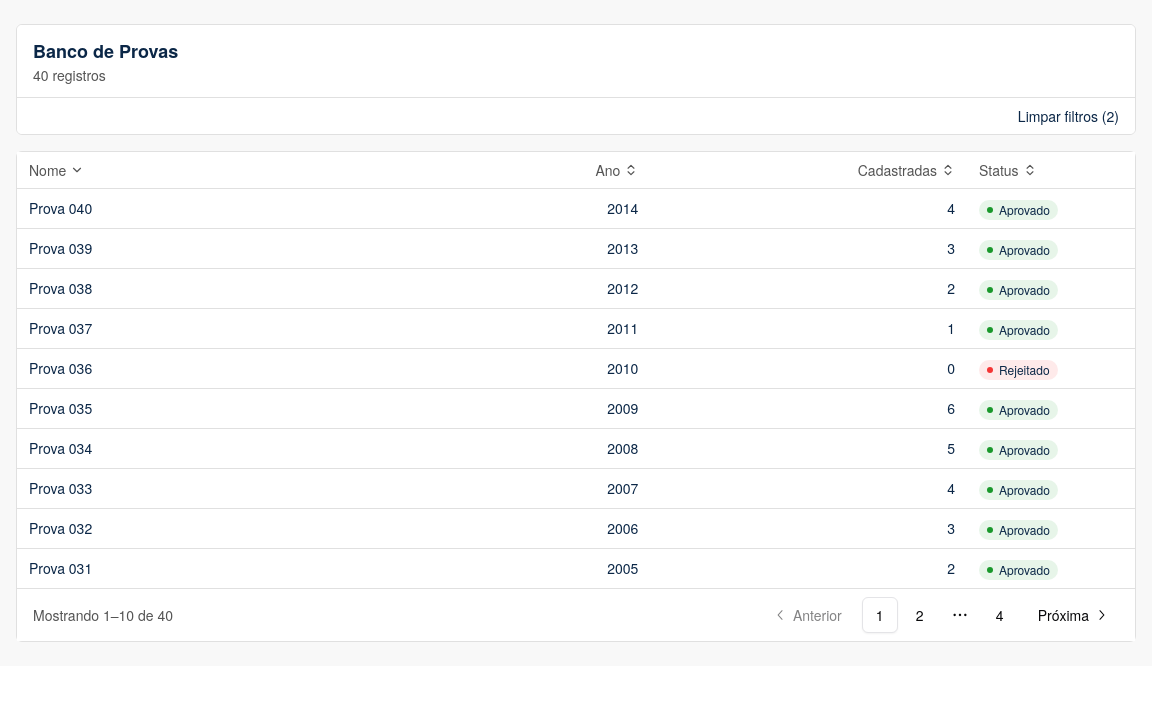
DashListTemplate — limpar filtros › resolve sem remontar: a ordenação sobrevive e a página volta a ser a 1
Click the link "4" at (1000, 615), box [996, 605, 1004, 625]
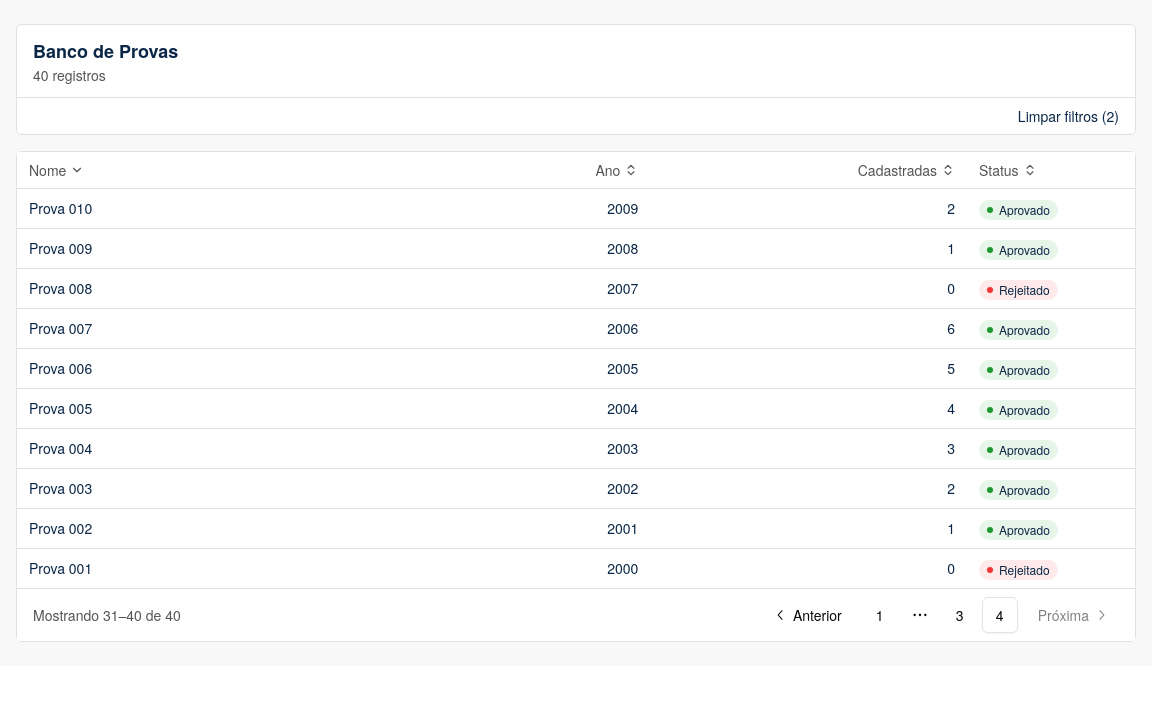
Click the button "Limpar filtros (2)" at (1068, 116), box [1018, 106, 1119, 126]
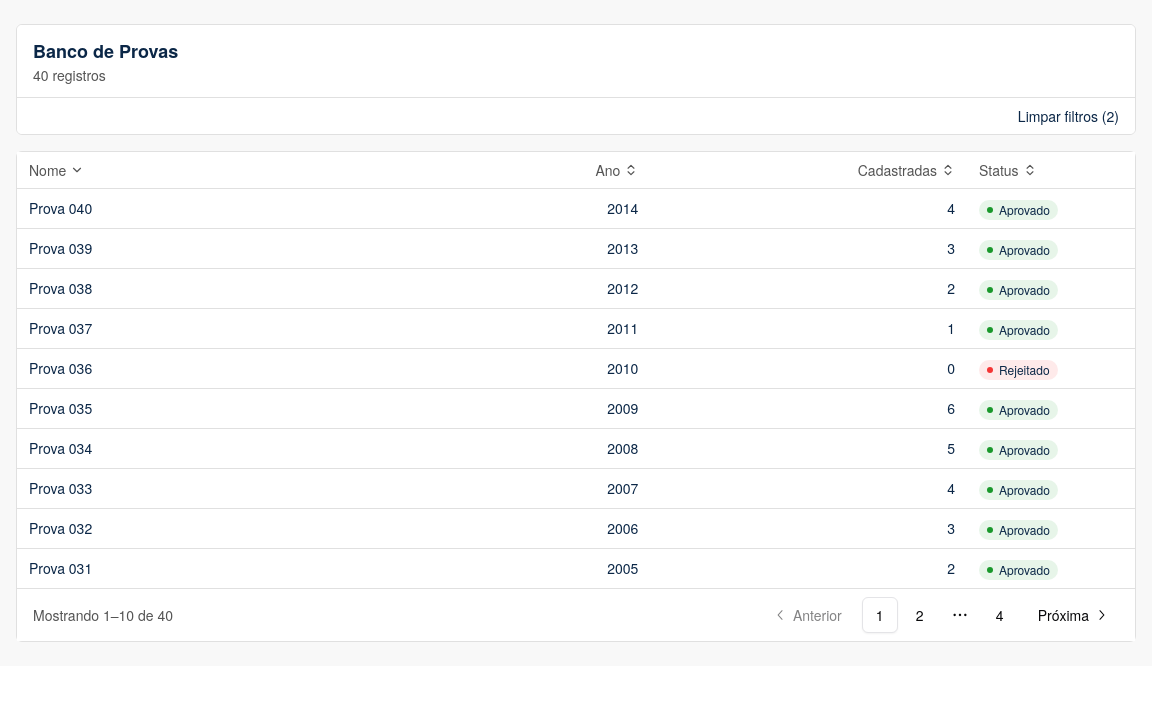
expect the text "Mostrando 1–10 de 40" is shown: met, box [33, 605, 173, 625]
expect the button "Prova 040" is shown: met, box [29, 198, 322, 218]
